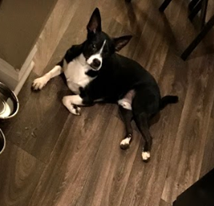Harley: (32, 6, 179, 160)
